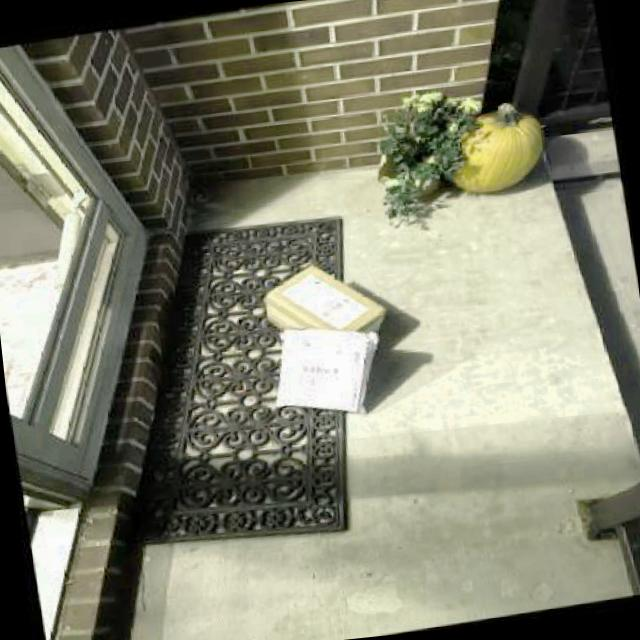Box: (260, 252, 393, 370), (264, 313, 390, 428)
